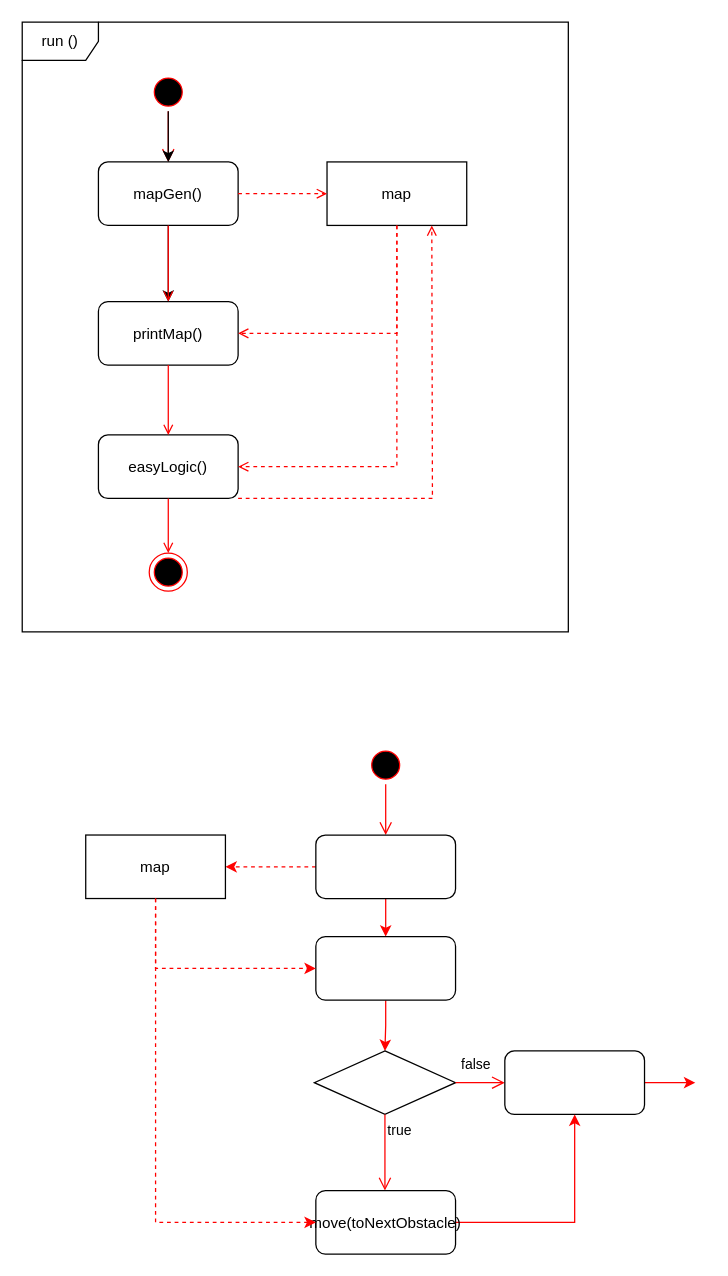
Some shapes in this 728 by 1276 pixel diagram are drawn without their labels. Here are the shapes that lost their labels. From the top down, the centre of each, then its label:
At [385,866]: "spinMyHeadRightRound()".
At [385,967]: "reportRoverPos()".
At [384,1082]: "IF NO WALL & NO HAZARD ahead".
At [574,1082]: "turnRight()".
